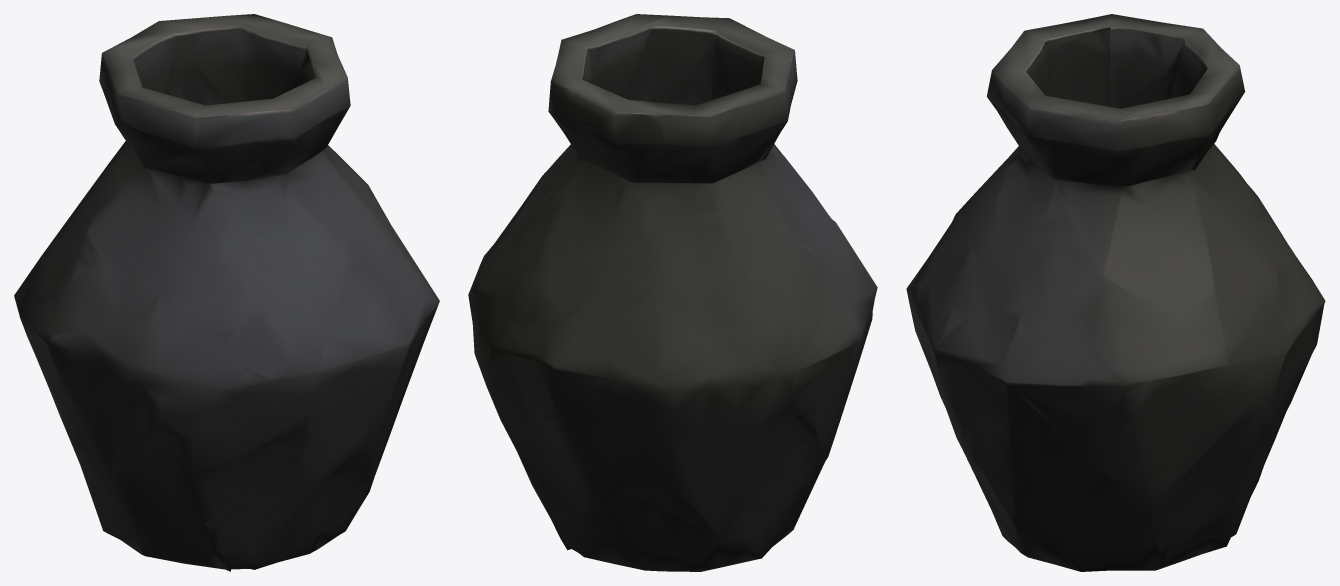
The model's file is vase+3d+model.glb.
3 views of the same model, side by side, from view 1: azimuth 30°, elevation 25°; view 2: azimuth 150°, elevation 25°; view 3: azimuth 270°, elevation 25° (orthographic).
Parts seen in each view (by area): view 1: tripo_node_da3e8660-48cb-43e2-946b-51c69d3173ae; view 2: tripo_node_da3e8660-48cb-43e2-946b-51c69d3173ae; view 3: tripo_node_da3e8660-48cb-43e2-946b-51c69d3173ae.
Boxes of the visible parts, x1,y1,x2,y2 form: tripo_node_da3e8660-48cb-43e2-946b-51c69d3173ae: (14, 14, 439, 571); tripo_node_da3e8660-48cb-43e2-946b-51c69d3173ae: (468, 14, 877, 571); tripo_node_da3e8660-48cb-43e2-946b-51c69d3173ae: (906, 14, 1325, 571).
Size of the model in its own units: 0.8412 by 1 by 0.8349.
Materials: 1 (1 with a texture image).
